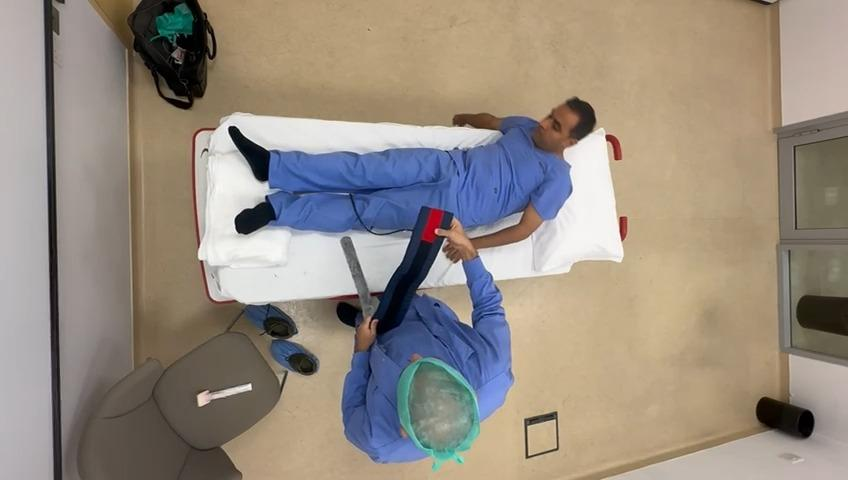bed: (192, 116, 626, 302)
patient: (229, 98, 596, 248)
prepstick: (197, 383, 252, 407)
tourniquet: (374, 208, 450, 334)
